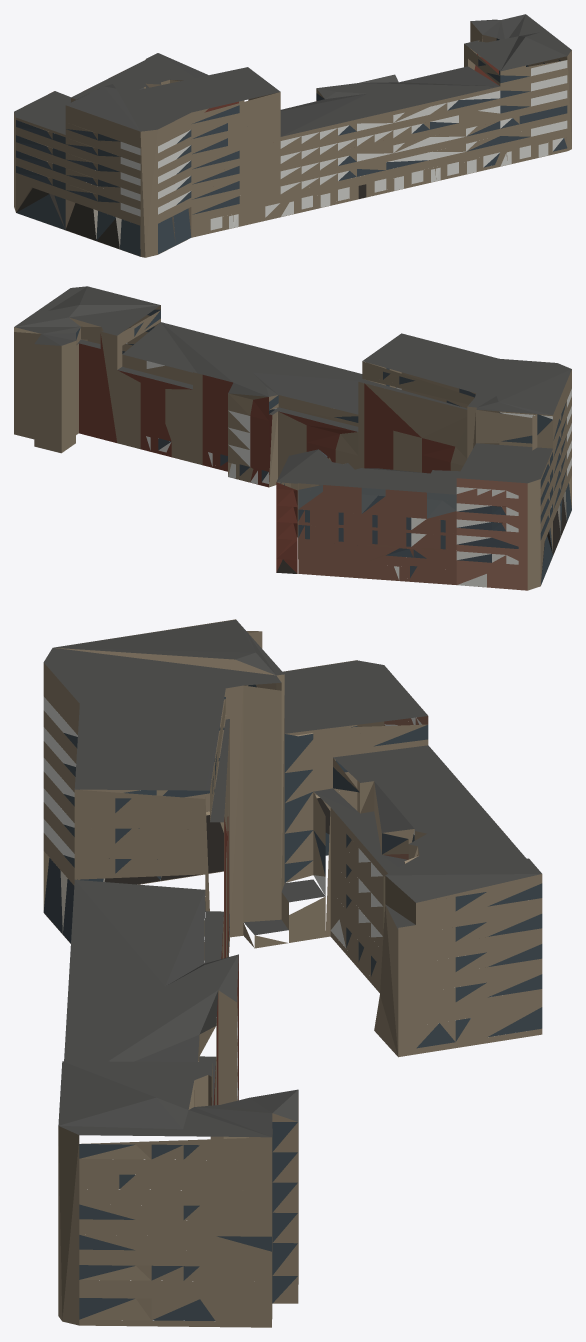
Rendered from tweede-atjehstraat-2.lod2.glb.
The picture shows the model from 3 angles, top to bottom: view 1: azimuth 30°, elevation 25°; view 2: azimuth 150°, elevation 25°; view 3: azimuth 270°, elevation 25°; orthographic projection. The views are drawn at different scales.
Parts seen in each view (by area): view 1: lod2; view 2: lod2; view 3: lod2.
Boxes of the visible parts, bbox=[...] form: lod2: bbox=[14, 14, 571, 257]; lod2: bbox=[14, 286, 571, 590]; lod2: bbox=[43, 619, 542, 1327].
Size of the model in its own units: 103 by 26.14 by 45.53.
